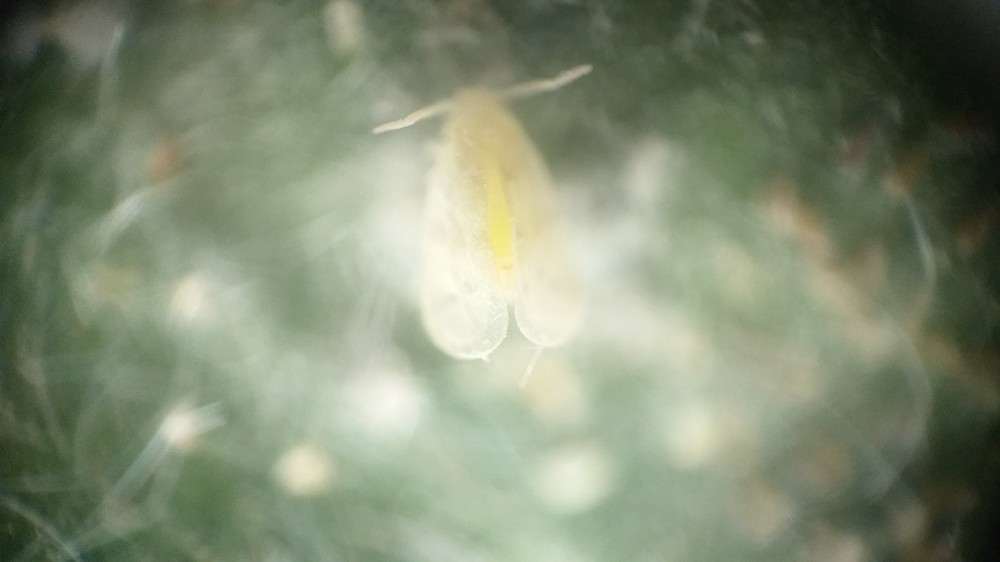Mosca Blanca: (358, 54, 633, 375)
